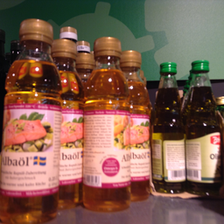oil: (2, 17, 64, 223), (83, 36, 132, 213), (185, 60, 223, 195), (149, 62, 187, 192)
